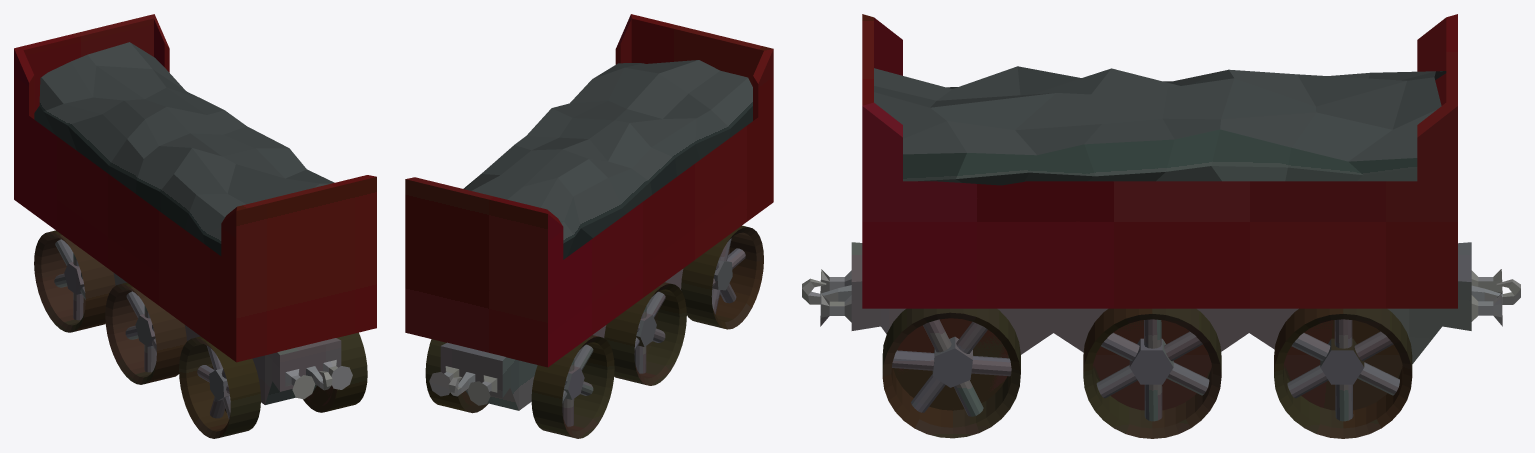
Rendered from vagao-carvao.glb.
The picture shows the model from 3 angles, left to right: view 1: azimuth 30°, elevation 25°; view 2: azimuth 150°, elevation 25°; view 3: azimuth 270°, elevation 25°; orthographic projection. The views are drawn at different scales.
Parts seen in each view (by area): view 1: corpo, carvao, rodas frente, rodas meio, rodas traseira, segura roda; view 2: corpo, carvao, rodas traseira, rodas frente, rodas meio, segura roda; view 3: corpo, carvao, rodas meio, rodas traseira, rodas frente, segura roda.
Part boxes in pixels (<box>): corpo: <box>14,14,376,362</box>; carvao: <box>34,42,334,255</box>; rodas frente: <box>179,332,367,438</box>; rodas meio: <box>105,282,186,384</box>; rodas traseira: <box>34,230,115,332</box>; segura roda: <box>113,272,352,404</box>; corpo: <box>405,14,773,367</box>; carvao: <box>463,60,752,259</box>; rodas traseira: <box>425,335,614,438</box>; rodas frente: <box>681,225,763,329</box>; rodas meio: <box>604,282,686,385</box>; segura roda: <box>429,269,683,410</box>; corpo: <box>862,14,1457,308</box>; carvao: <box>874,66,1446,185</box>; rodas meio: <box>1083,308,1221,438</box>; rodas traseira: <box>1274,308,1412,438</box>; rodas frente: <box>882,308,1020,438</box>; segura roda: <box>802,242,1520,363</box>.
Size of the model in its own units: 12.58 by 20.81 by 40.46.
Materials: 1 (1 with a texture image).
